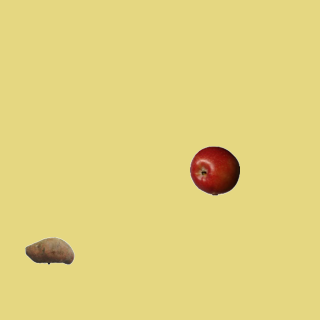Apple Braeburn: (189, 145, 239, 195)
Potato Sweet: (24, 225, 74, 275)
